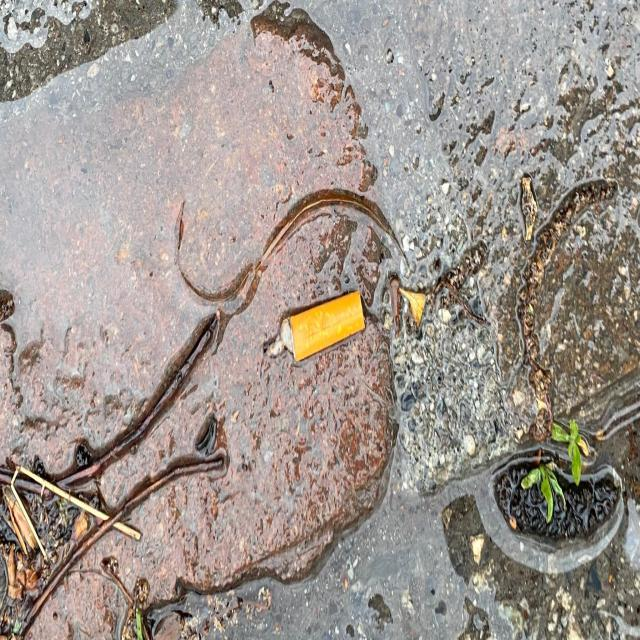other waste: (263, 289, 366, 364)
